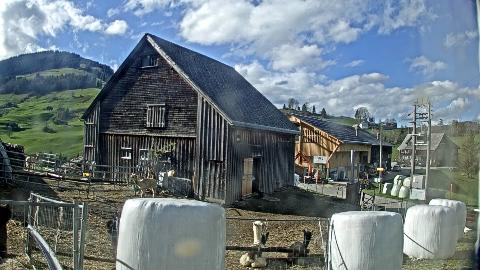car: (392, 164, 402, 172), (418, 162, 426, 166)
sheep: (240, 221, 266, 266), (286, 228, 314, 266), (130, 174, 158, 199), (0, 204, 12, 256), (26, 153, 42, 170), (314, 230, 326, 250), (252, 186, 264, 198), (252, 174, 256, 181)
